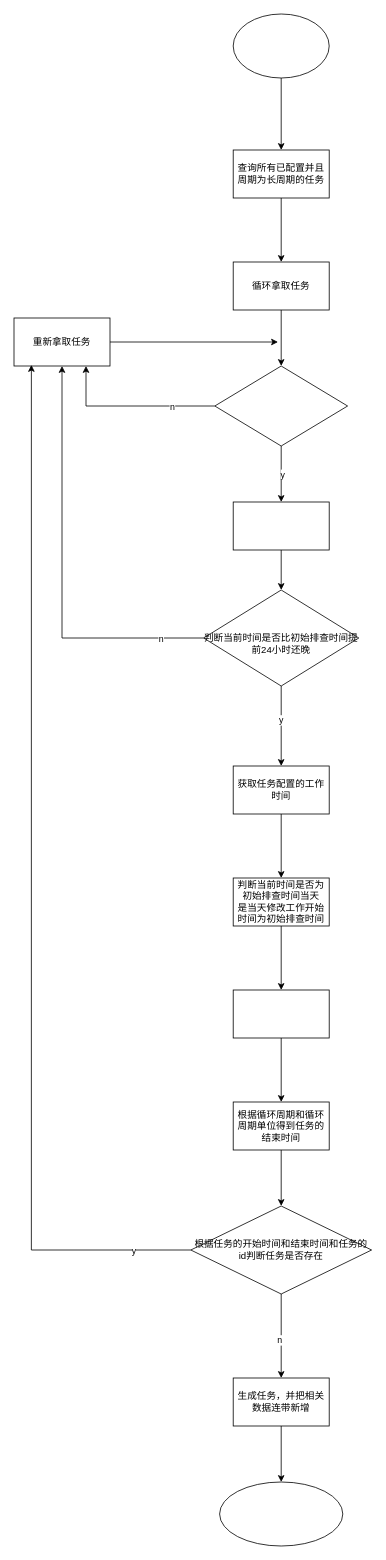
The diagram is 386 pixels wide and 1560 high, and some of its shapes have lost their labels. Here are the shapes that lost their labels. From the top down, the centre of each, then its label:
At [280,45]: "开始执行任务".
At [281,405]: "判断配置是否完整".
At [280,525]: "获取初始排查时间".
At [280,1013]: "获取循环周期和循环周期单位".
At [281,1513]: "结束".
